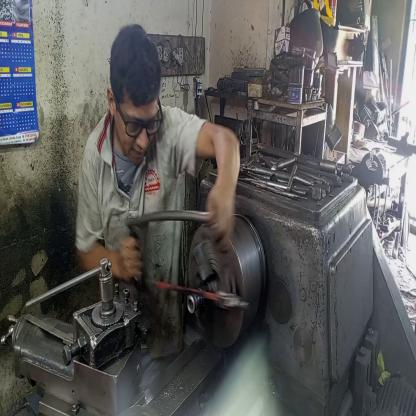lentes: (114, 96, 160, 145)
